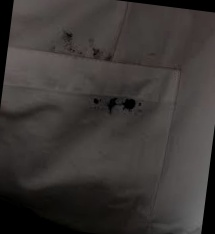ink: (87, 92, 142, 117), (60, 32, 108, 59)
